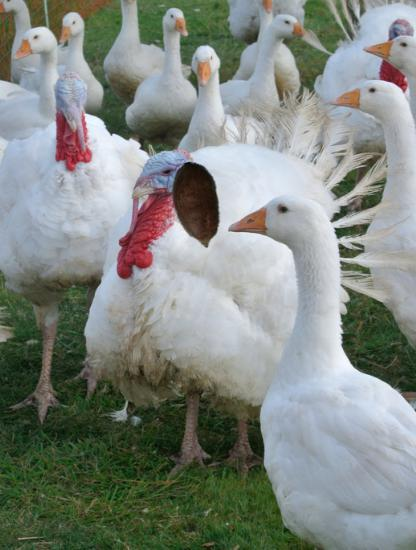Nut: (153, 161, 242, 250)
